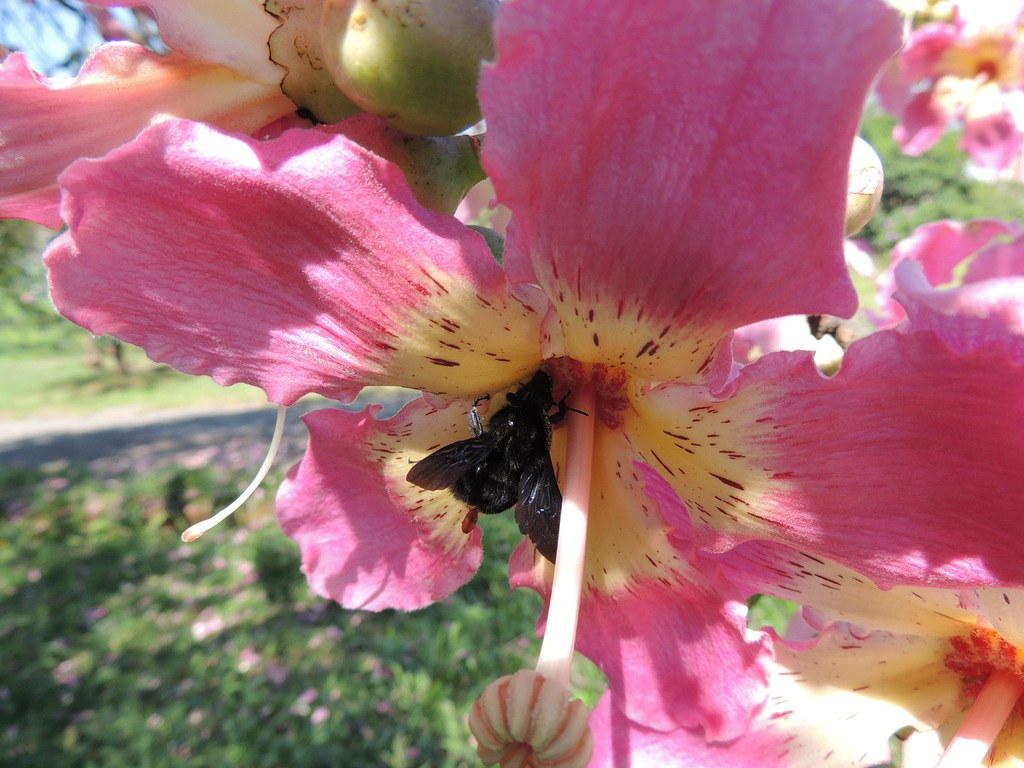bee: (410, 392, 570, 551)
insect: (44, 3, 1023, 764), (1, 0, 293, 233), (866, 20, 1022, 180)
